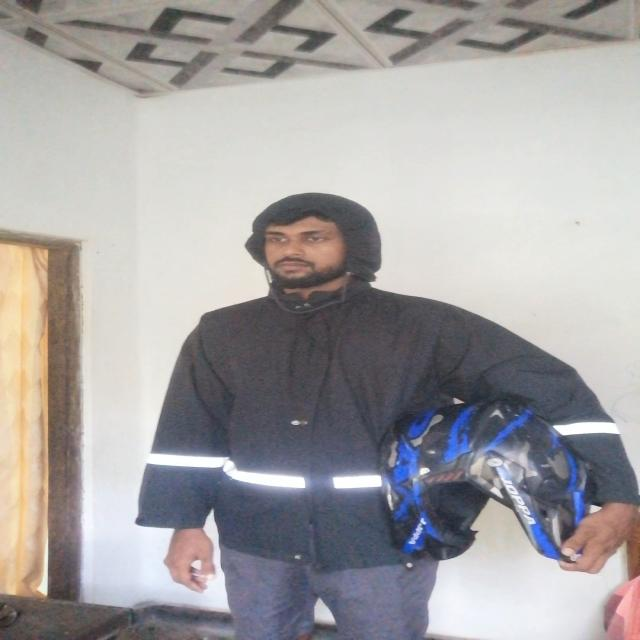Jacket_Wearer: (159, 280, 622, 572)
Person: (126, 181, 640, 640)
